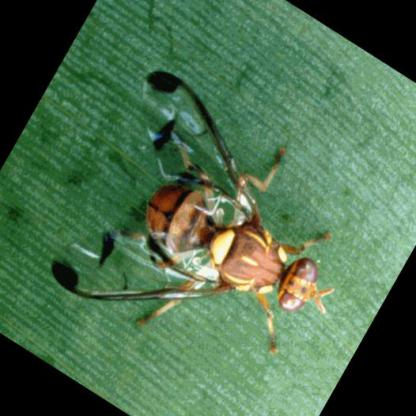fruit fly: (50, 68, 336, 343)
